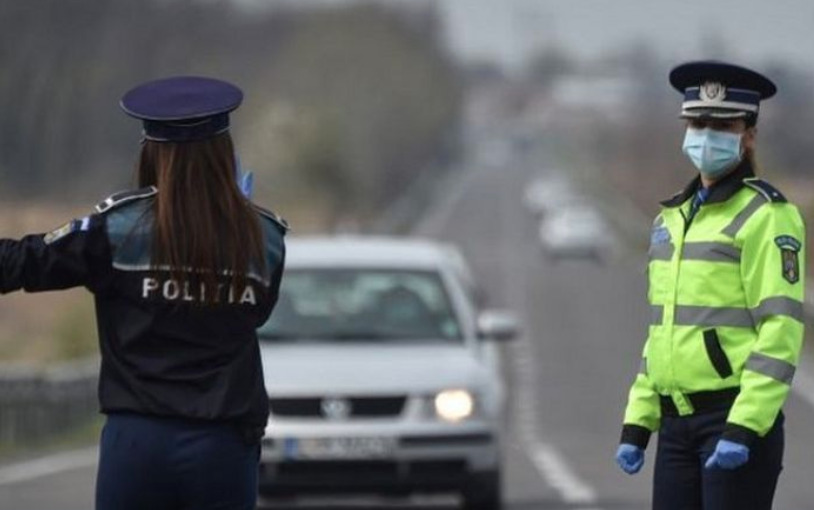Caution: (89, 57, 798, 503)
